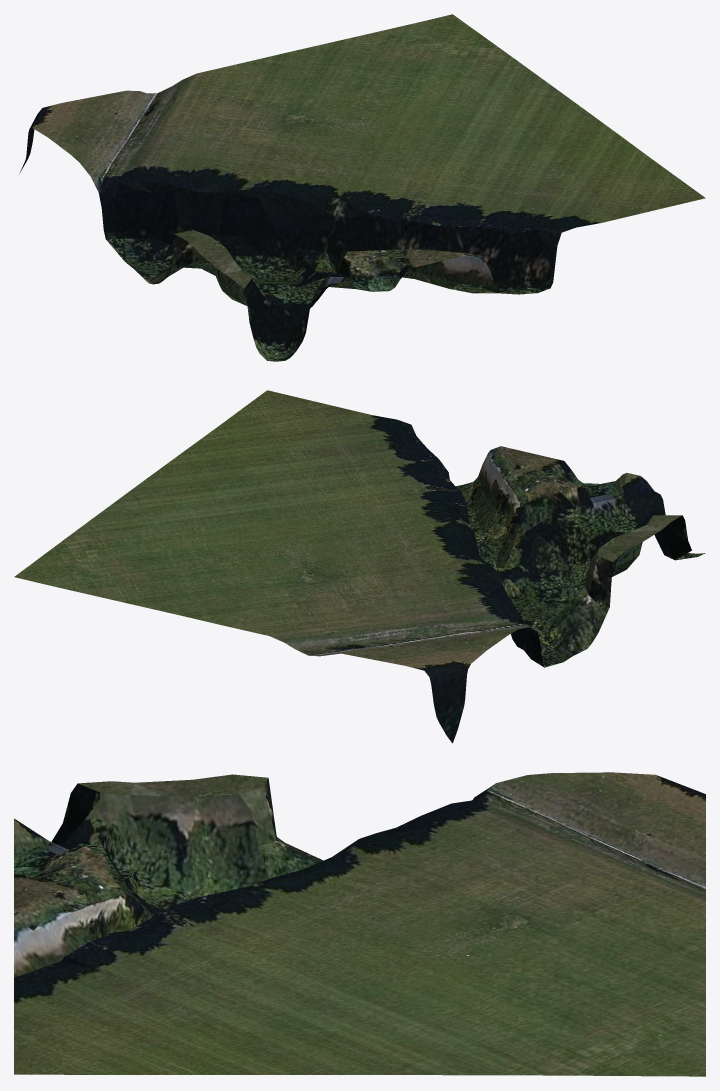
File: map_15_8178_13786.dae
The picture shows the model from 3 angles, top to bottom: view 1: azimuth 30°, elevation 25°; view 2: azimuth 150°, elevation 25°; view 3: azimuth 270°, elevation 25°; orthographic projection. The views are drawn at different scales.
Parts seen in each view (by area): view 1: Ter0; view 2: Ter0; view 3: Ter0.
Boxes of the visible parts, box(x1,y1,x2,y2) form: Ter0: box(20, 14, 705, 361); Ter0: box(14, 390, 705, 743); Ter0: box(14, 772, 705, 1076).
Bounding box in the file's own units: 63.88 × 63.88 × 10.62.
3 materials, 3 textured.
